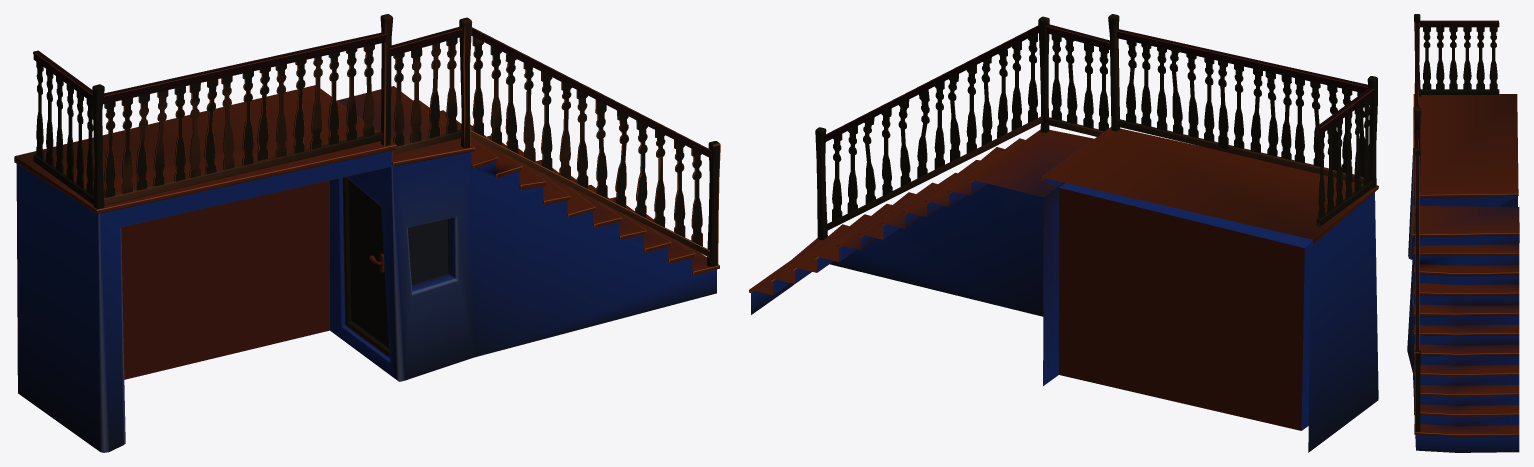
Rendered from ModSideStairs01.fbx.
3 renders of one model, left to right at view 1: azimuth 30°, elevation 25°; view 2: azimuth 150°, elevation 25°; view 3: azimuth 270°, elevation 25°, orthographic. The views are drawn at different scales.
Visible parts, largest first — view 1: polySurface28; view 2: polySurface28; view 3: polySurface28.
Boxes of the visible parts, <box> form: polySurface28: <box>14,14,720,452</box>; polySurface28: <box>749,14,1378,452</box>; polySurface28: <box>1407,14,1519,452</box>.
Size of the model in its own units: 5.05 by 2.78 by 1.18.
